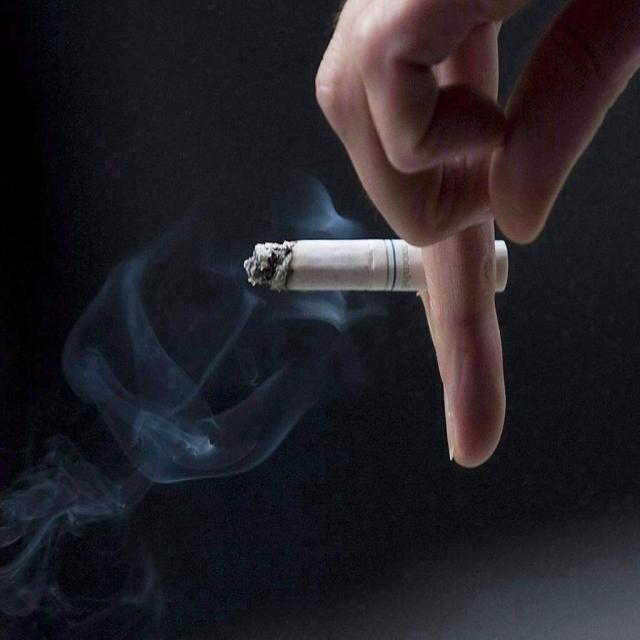smoking: (244, 235, 509, 297)
